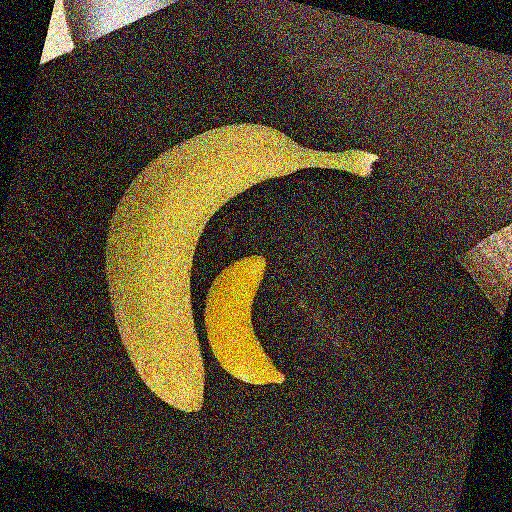fruit: (50, 123, 358, 512), (0, 71, 219, 463)
